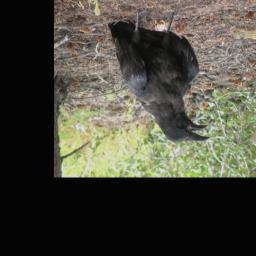Crow: (106, 6, 210, 144)
